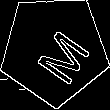M_NW: (22, 17, 87, 83)
